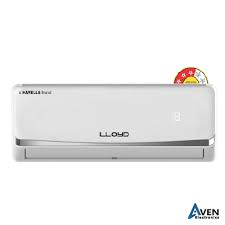ac: (6, 79, 222, 164)
